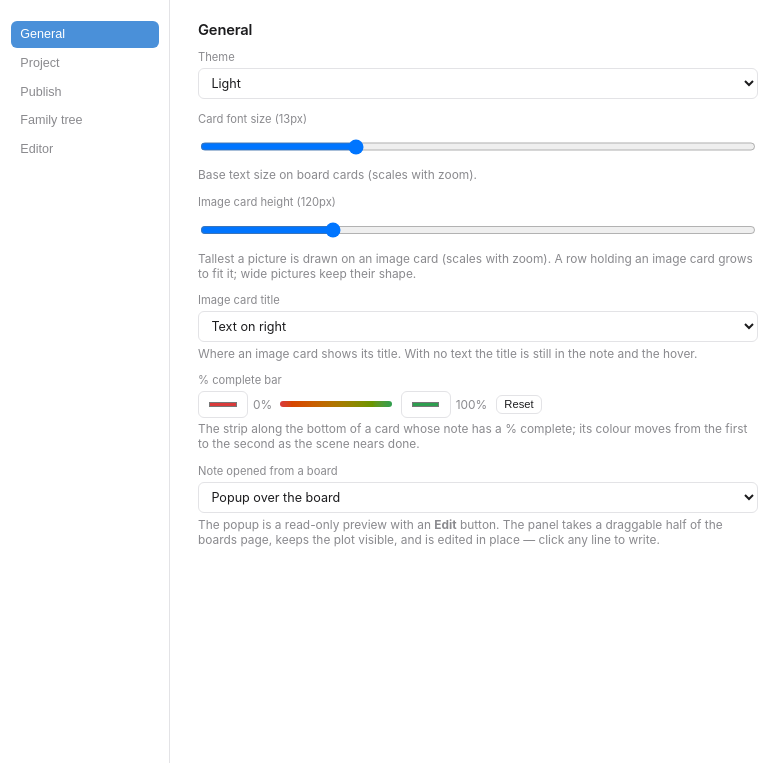
Test: Settings — project metadata › shows the defaults for a project that sets neither field
The width and height of the screenshot is (775, 763).
Click the tab "Project".
click(84, 63)  # box [10,50,158,76]
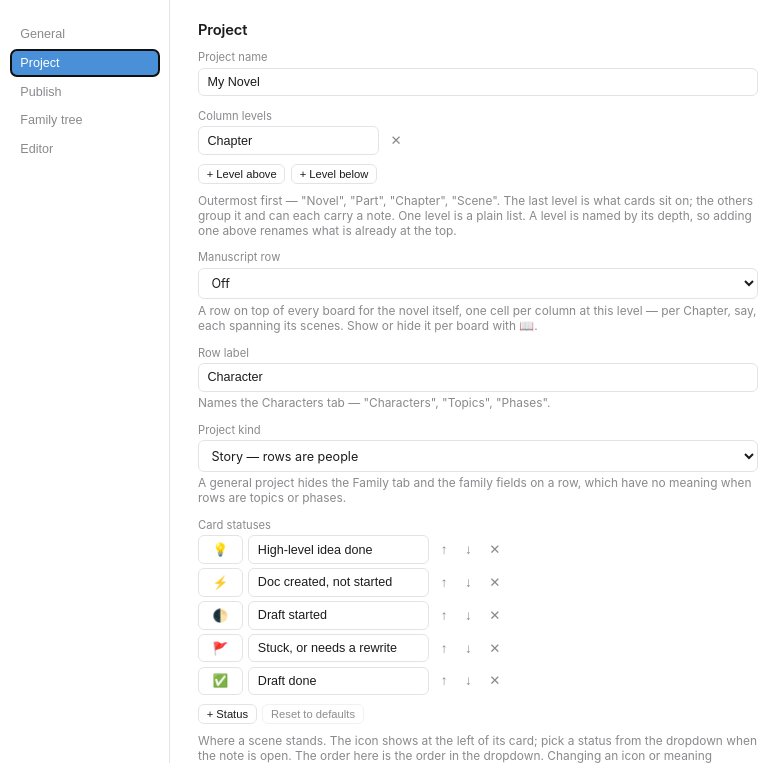
Result: the field labelled "Project name" is not empty at [198,68,758,96]
Result: the field labelled "Row label" holds "Character" at [198,363,758,392]
Result: the field named "Level 1 name" holds "Chapter" at [198,126,379,155]
